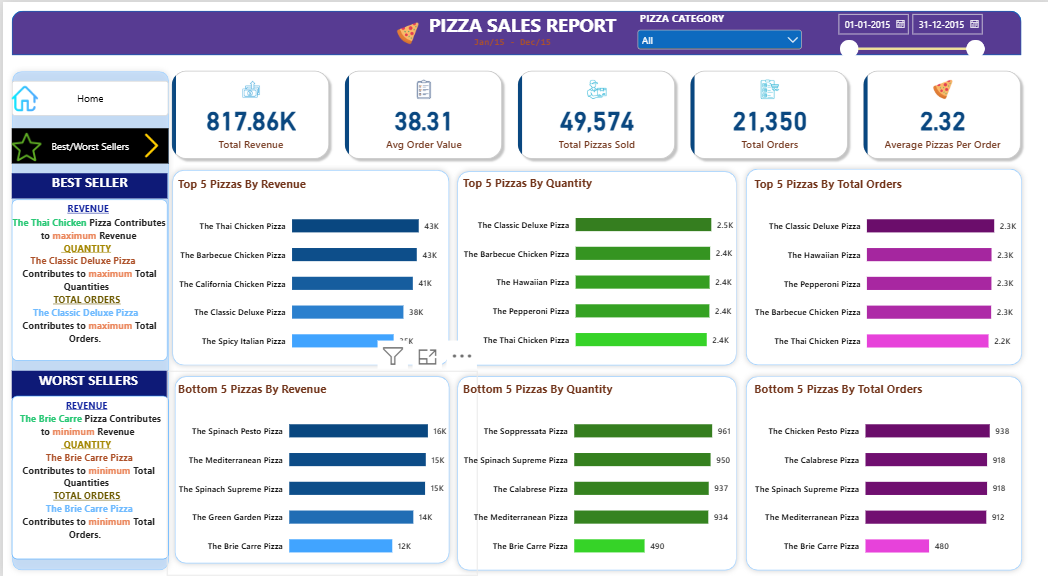

The page's visual inventory and layout, read from the dashboard file:
{"tool":"powerbi","page":{"name":"Best/Worst Sellers","canvas":[1500,820],"ordinal":1},"visuals":[{"type":"cardVisual","fields":{"Data":["pizza_sales.Total Revenue","pizza_sales.Avg Order Value","pizza_sales.Total Pizzas Sold","pizza_sales.Total Orders","pizza_sales.Average Pizzas Per Order","pizza_sales.Total Pizzas Sold"]},"box":[233.9,91.5,1230,140],"z":0},{"type":"shape","box":[12.1,12.1,1442.4,63.6],"z":1000},{"type":"textbox","box":[12.5,562.5,222.5,202.5],"z":2000},{"type":"textbox","box":[211.9,13.6,1059.3,64.4],"z":3000},{"type":"textbox","box":[645.8,45.8,162.7,555.9],"z":4000},{"type":"image","box":[554.2,28.8,49.2,32.2],"z":5000},{"type":"shape","box":[233.3,231.7,411.7,295],"z":6000},{"type":"shape","box":[4.5,90.9,239.4,728.8],"z":7000},{"type":"textbox","box":[12.1,245.5,222.7,36.4],"z":8000},{"type":"textbox","box":[12.1,281.8,222.7,230.3],"z":9000},{"type":"textbox","box":[12.9,527.1,222.9,39],"z":10000},{"type":"textbox","box":[12.5,562.5,223.8,233.8],"z":11000},{"type":"slicer","fields":{"Values":["pizza_sales.pizza_category"]},"box":[902,12,244,66],"z":12000},{"type":"slicer","fields":{"Values":["pizza_sales.order_date"]},"box":[1186,12,220,64],"z":13000},{"type":"shape","box":[641.7,233.3,415,293.3],"z":14000},{"type":"shape","box":[1053.3,230,410,296.7],"z":15000},{"type":"shape","box":[236.7,526.7,408.3,283.3],"z":16000},{"type":"shape","box":[641.7,526.7,415,293.3],"z":17000},{"type":"shape","box":[1053.3,526.7,410,293.3],"z":18000},{"type":"barChart","title":"Top 5 Pizzas By Revenue","fields":{"Category":["pizza_sales.pizza_name"],"Y":["pizza_sales.Total Revenue"]},"box":[233.3,233.3,445,293.3],"z":19000},{"type":"barChart","title":"Bottom 5 Pizzas By Revenue","fields":{"Category":["pizza_sales.pizza_name"],"Y":["pizza_sales.Total Revenue"]},"box":[233.3,526.7,445,293.3],"z":20000},{"type":"barChart","title":"Top 5 Pizzas By Quantity","fields":{"Category":["pizza_sales.pizza_name"],"Y":["pizza_sales.Total Pizzas Sold"]},"box":[641.6,232.5,430,293.3],"z":21000},{"type":"barChart","title":"Bottom 5 Pizzas By Quantity","fields":{"Category":["pizza_sales.pizza_name"],"Y":["pizza_sales.Total Pizzas Sold"]},"box":[641.7,526.7,415,293.3],"z":22000},{"type":"barChart","title":"Top 5 Pizzas By Total Orders","fields":{"Category":["pizza_sales.pizza_name"],"Y":["pizza_sales.Total Orders"]},"box":[1057.1,233.8,427.3,293.5],"z":23000},{"type":"barChart","title":"Bottom 5 Pizzas By Total Orders","fields":{"Category":["pizza_sales.pizza_name"],"Y":["pizza_sales.Total Orders"]},"box":[1057.1,526,397.4,293.5],"z":24000},{"type":"pageNavigator","box":[12.1,112.1,224.2,50],"z":25000},{"type":"pageNavigator","box":[12.1,180.3,224.2,50],"z":26000},{"type":"image","box":[195.5,187.9,34.8,34.8],"z":27000},{"type":"image","box":[12.1,100,37.9,75.8],"z":28000},{"type":"image","box":[12.1,180.3,42.4,53],"z":29000}]}

Visuals, with their boxes in screenshot pixels (x1, y1, x2, y2), scaled from the page's 1500x820 canvas onto the 1048x576 screenshot:
cardVisual - pizza_sales.Total Revenue x pizza_sales.Avg Order Value: bbox(163, 64, 1023, 163)
shape: bbox(8, 8, 1016, 53)
textbox: bbox(9, 395, 164, 537)
textbox: bbox(148, 10, 888, 55)
textbox: bbox(451, 32, 565, 423)
image: bbox(387, 20, 422, 43)
shape: bbox(163, 163, 451, 370)
shape: bbox(3, 64, 170, 575)
textbox: bbox(8, 172, 164, 198)
textbox: bbox(8, 198, 164, 360)
textbox: bbox(9, 370, 165, 398)
textbox: bbox(9, 395, 165, 559)
slicer - pizza_sales.pizza_category: bbox(630, 8, 801, 55)
slicer - pizza_sales.order_date: bbox(829, 8, 982, 53)
shape: bbox(448, 164, 738, 370)
shape: bbox(736, 162, 1022, 370)
shape: bbox(165, 370, 451, 569)
shape: bbox(448, 370, 738, 575)
shape: bbox(736, 370, 1022, 575)
"Top 5 Pizzas By Revenue" barChart: bbox(163, 164, 474, 370)
"Bottom 5 Pizzas By Revenue" barChart: bbox(163, 370, 474, 575)
"Top 5 Pizzas By Quantity" barChart: bbox(448, 163, 749, 369)
"Bottom 5 Pizzas By Quantity" barChart: bbox(448, 370, 738, 575)
"Top 5 Pizzas By Total Orders" barChart: bbox(739, 164, 1037, 370)
"Bottom 5 Pizzas By Total Orders" barChart: bbox(739, 369, 1016, 575)
pageNavigator: bbox(8, 79, 165, 114)
pageNavigator: bbox(8, 127, 165, 162)
image: bbox(137, 132, 161, 156)
image: bbox(8, 70, 35, 123)
image: bbox(8, 127, 38, 164)
